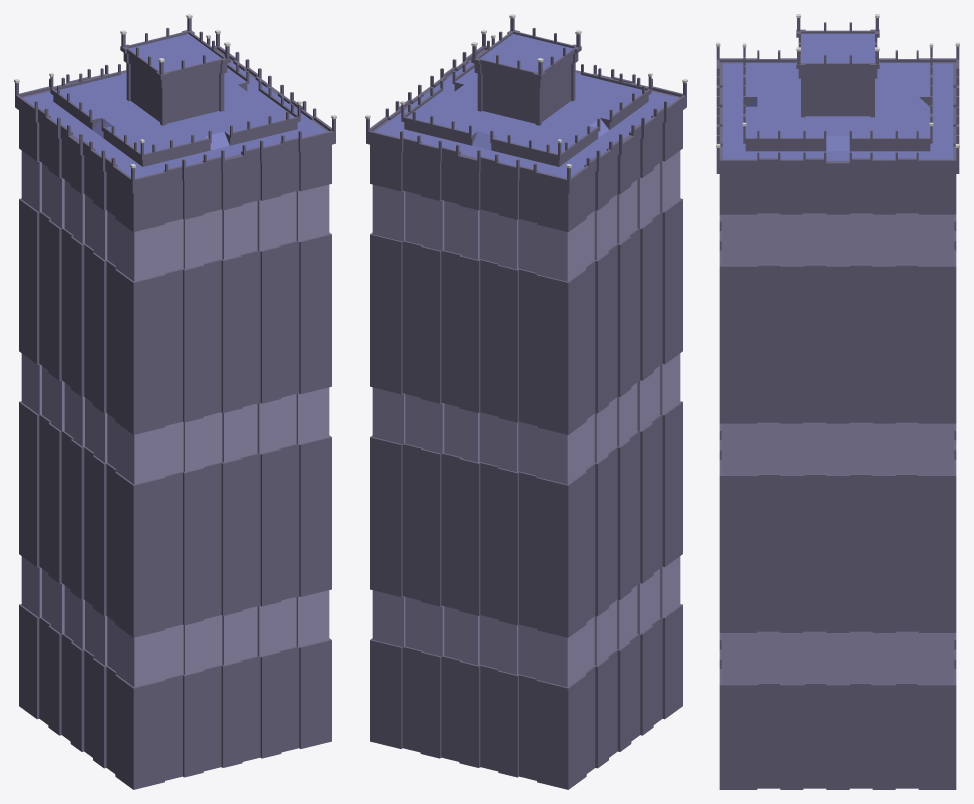
Rendered from Tower 1.fbx.
The picture shows the model from 3 angles, left to right: view 1: azimuth 30°, elevation 25°; view 2: azimuth 150°, elevation 25°; view 3: azimuth 270°, elevation 25°; orthographic projection. The views are drawn at different scales.
Parts seen in each view (by area): view 1: Tower; view 2: Tower; view 3: Tower.
Part boxes in pixels (x1=…): Tower: x1=14, y1=14, x2=336, y2=789; Tower: x1=365, y1=14, x2=687, y2=789; Tower: x1=716, y1=14, x2=959, y2=789.
Size of the model in its own units: 211 by 211 by 677.
